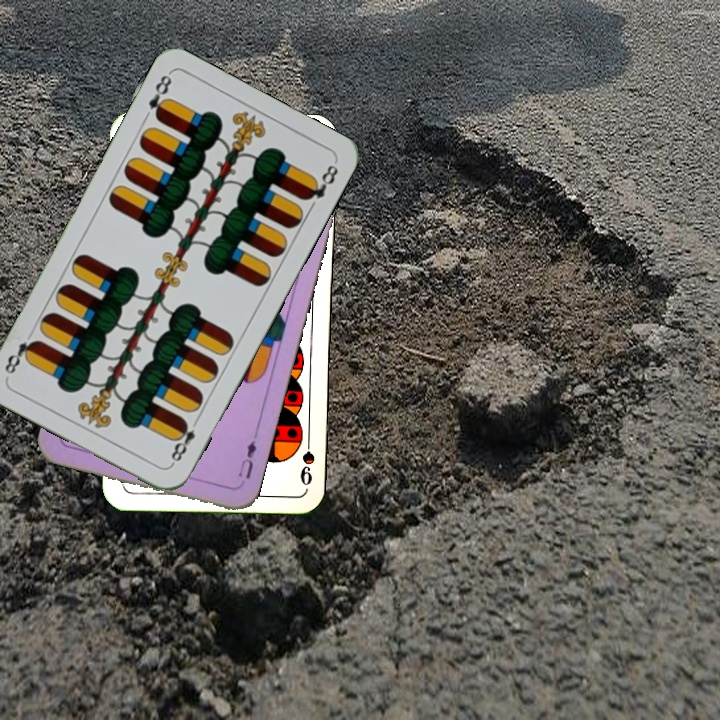E8: (166, 414, 202, 468), (144, 69, 175, 123)
EU: (234, 430, 260, 481)
S9: (296, 429, 318, 488)
